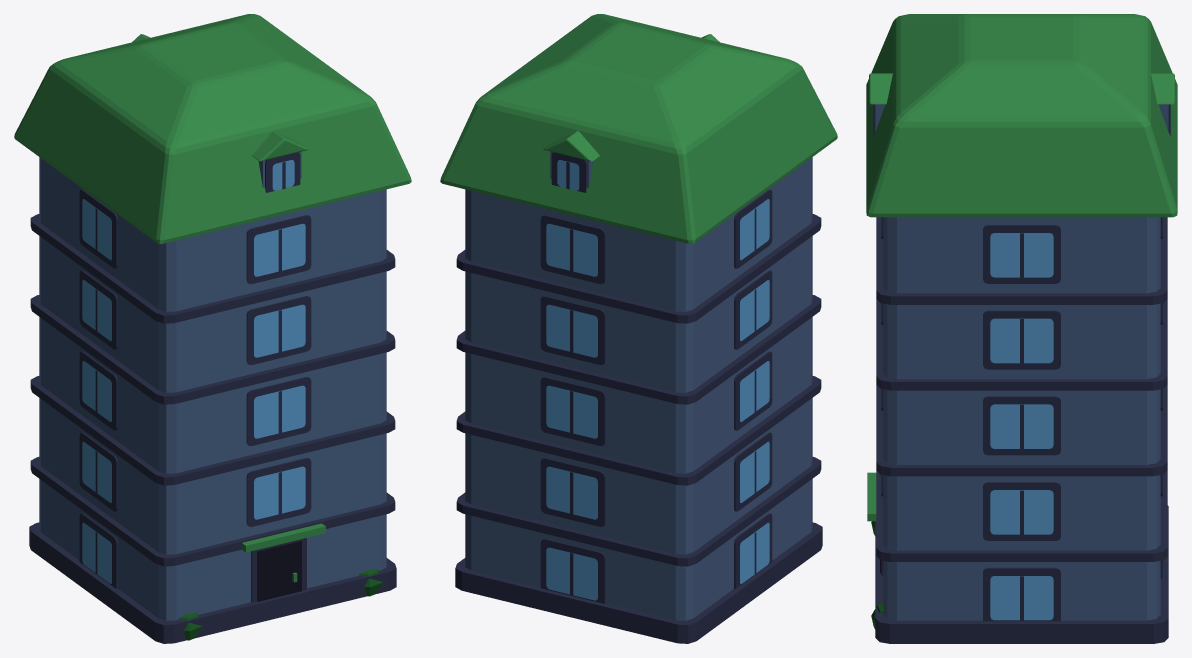
The model's file is house-1x1-5f-mansard-b.glb.
3 views of the same model, side by side, from view 1: azimuth 30°, elevation 25°; view 2: azimuth 150°, elevation 25°; view 3: azimuth 270°, elevation 25° (orthographic). The views are drawn at different scales.
Parts seen in each view (by area): view 1: house-1x1-5f-mansard-b; view 2: house-1x1-5f-mansard-b; view 3: house-1x1-5f-mansard-b.
Boxes of the visible parts, x1,y1,x2,y2 form: house-1x1-5f-mansard-b: [14, 14, 411, 643]; house-1x1-5f-mansard-b: [440, 14, 837, 643]; house-1x1-5f-mansard-b: [866, 14, 1177, 643].
Bounding box in the file's own units: 0.9876 × 1.9 × 0.9876.
Materials: 1 (1 with a texture image).
